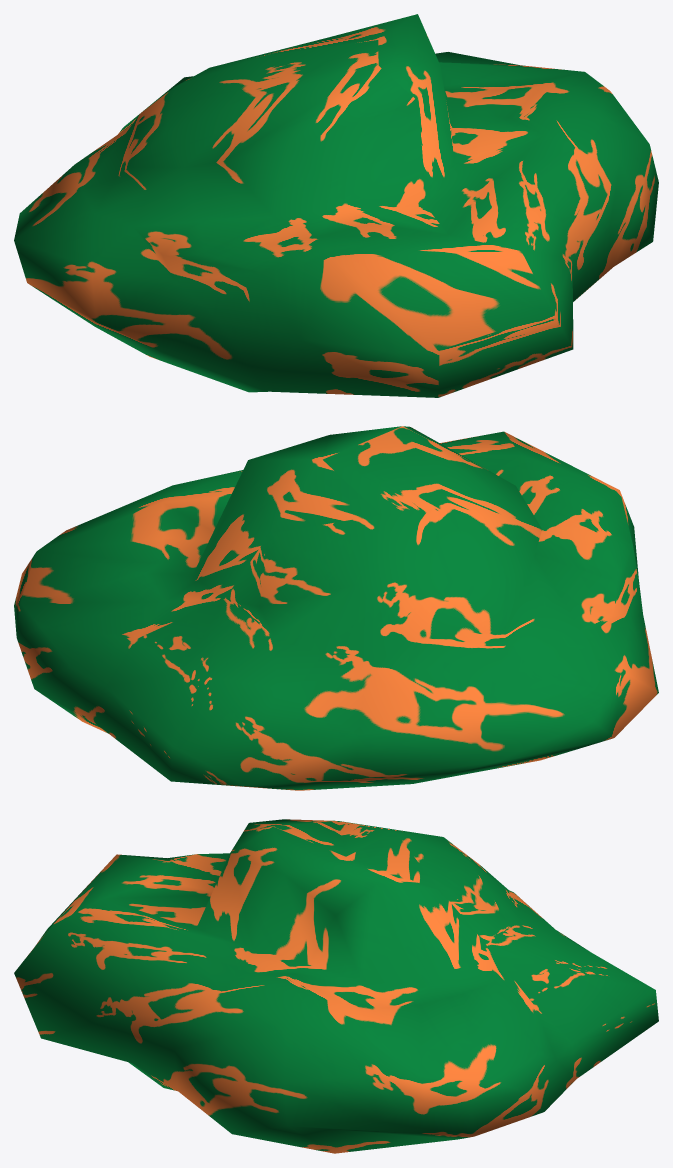
Rendered from eff_effectproxies_claygun_projectile02_pose0.fbx.
3 views of the same model, one above another, from view 1: azimuth 30°, elevation 25°; view 2: azimuth 150°, elevation 25°; view 3: azimuth 270°, elevation 25° (orthographic). The views are drawn at different scales.
Visible parts, largest first — view 1: claygun_projectile02_pose0; view 2: claygun_projectile02_pose0; view 3: claygun_projectile02_pose0.
Boxes of the visible parts, bbox=[...] form: claygun_projectile02_pose0: bbox=[14, 14, 658, 397]; claygun_projectile02_pose0: bbox=[14, 426, 658, 790]; claygun_projectile02_pose0: bbox=[14, 819, 658, 1153].
Bounding box in the file's own units: 2.31 × 0.9306 × 2.47.
